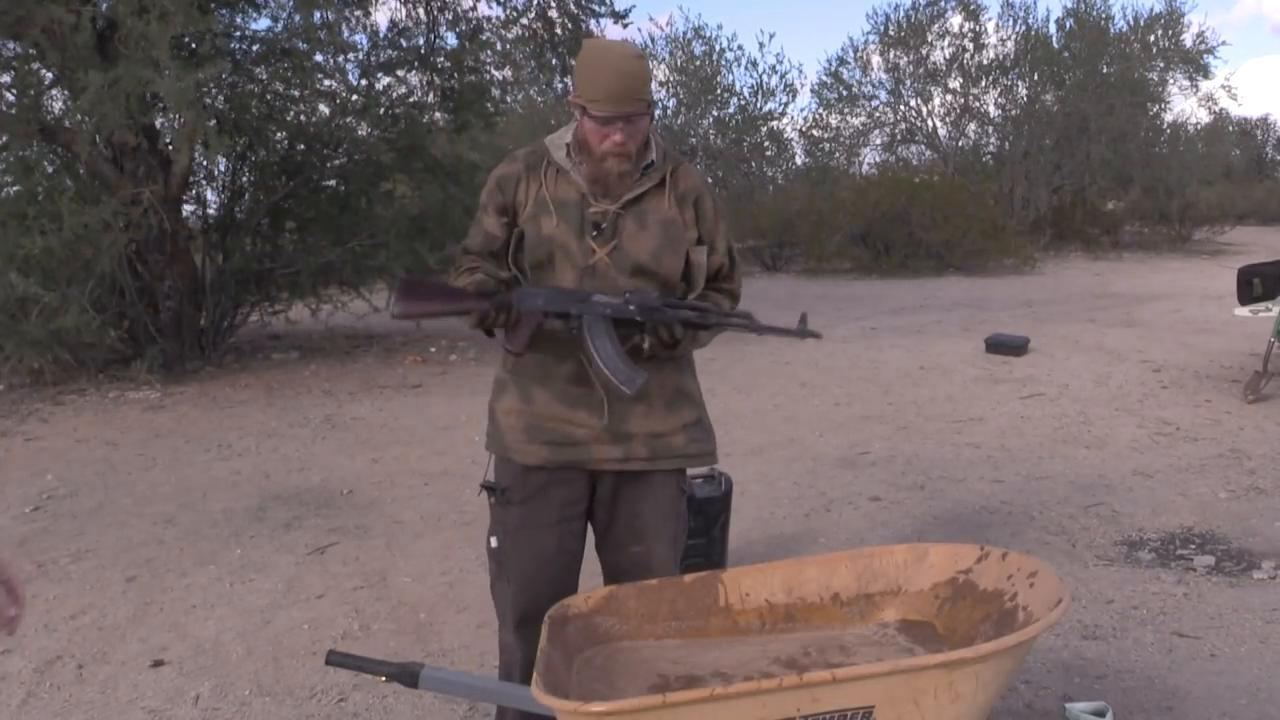AK47 Rifle: (383, 271, 824, 393)
